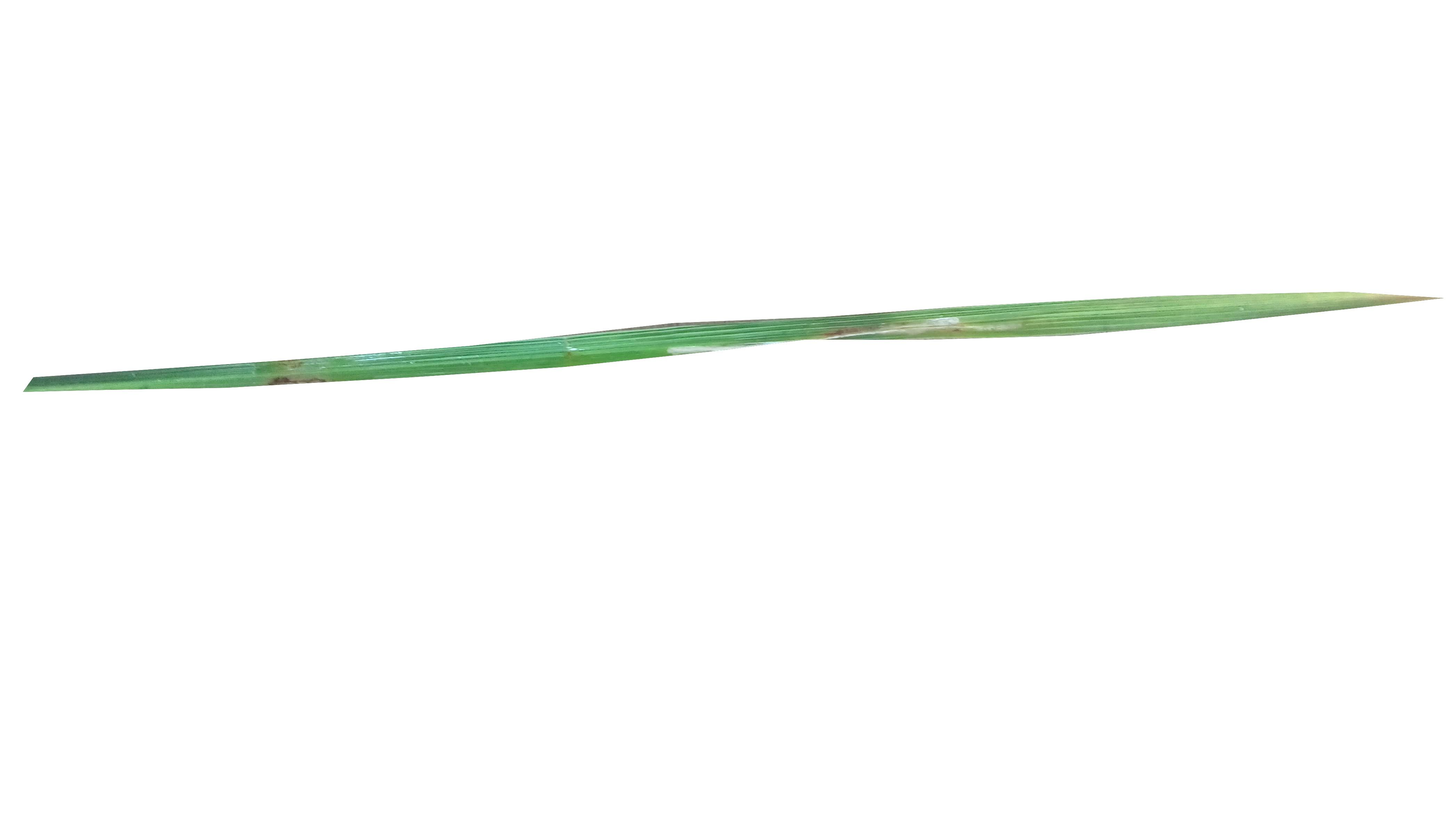Blight: (825, 315, 1024, 338)
Rice blast: (266, 359, 330, 385)
